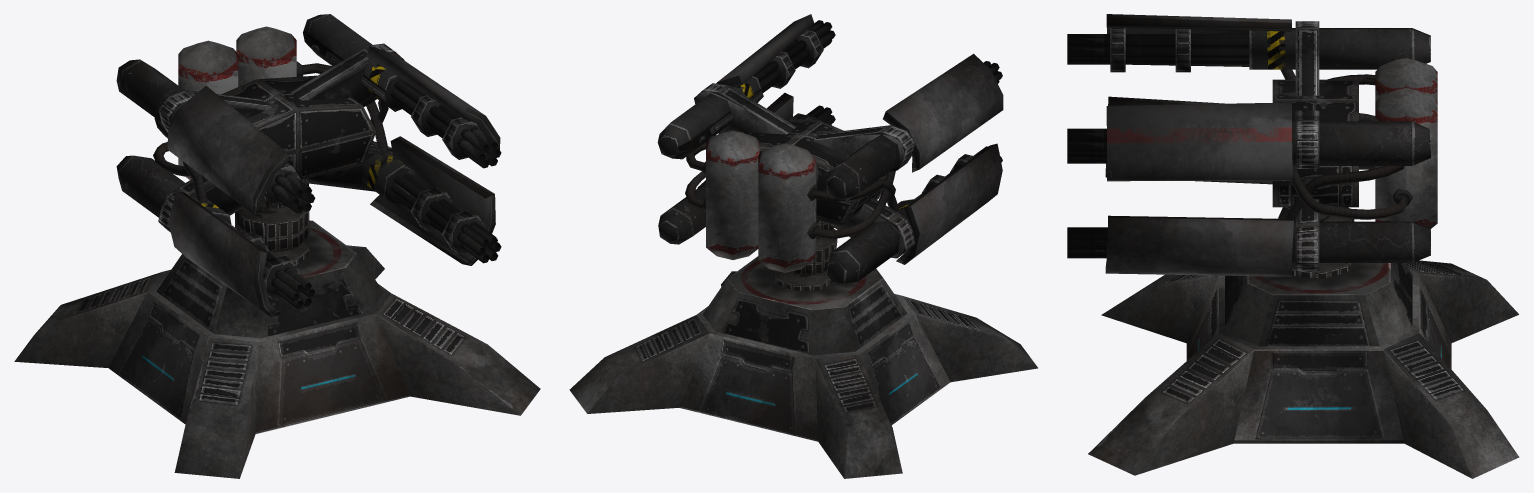
The model's file is Heavy_machineguner_lod1.obj.
3 views of the same model, side by side, from view 1: azimuth 30°, elevation 25°; view 2: azimuth 150°, elevation 25°; view 3: azimuth 270°, elevation 25° (orthographic). The views are drawn at different scales.
Visible parts, largest first — view 1: Heavy_machineguner_lod1.obj; view 2: Heavy_machineguner_lod1.obj; view 3: Heavy_machineguner_lod1.obj.
Boxes of the visible parts, x1,y1,x2,y2 form: Heavy_machineguner_lod1.obj: [14, 14, 540, 478]; Heavy_machineguner_lod1.obj: [569, 14, 1037, 478]; Heavy_machineguner_lod1.obj: [1067, 14, 1519, 478].
Size of the model in its own units: 1.53 by 1.24 by 1.55.
1 material, 1 textured.
